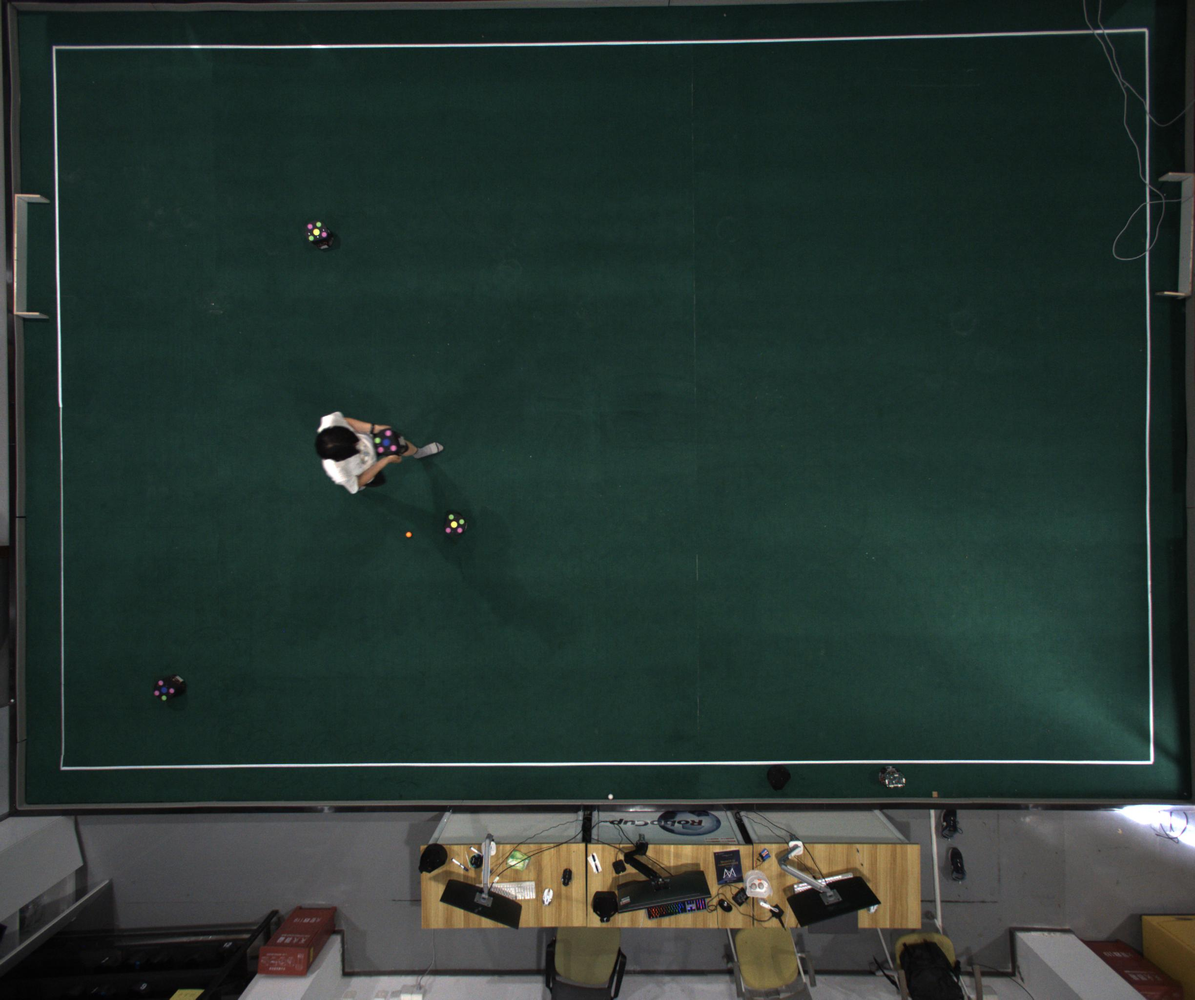ball: (405, 531, 412, 538)
blue_bot: (375, 429, 400, 455), (153, 679, 178, 702)
yellow_bot: (305, 221, 329, 243), (445, 513, 466, 536)
